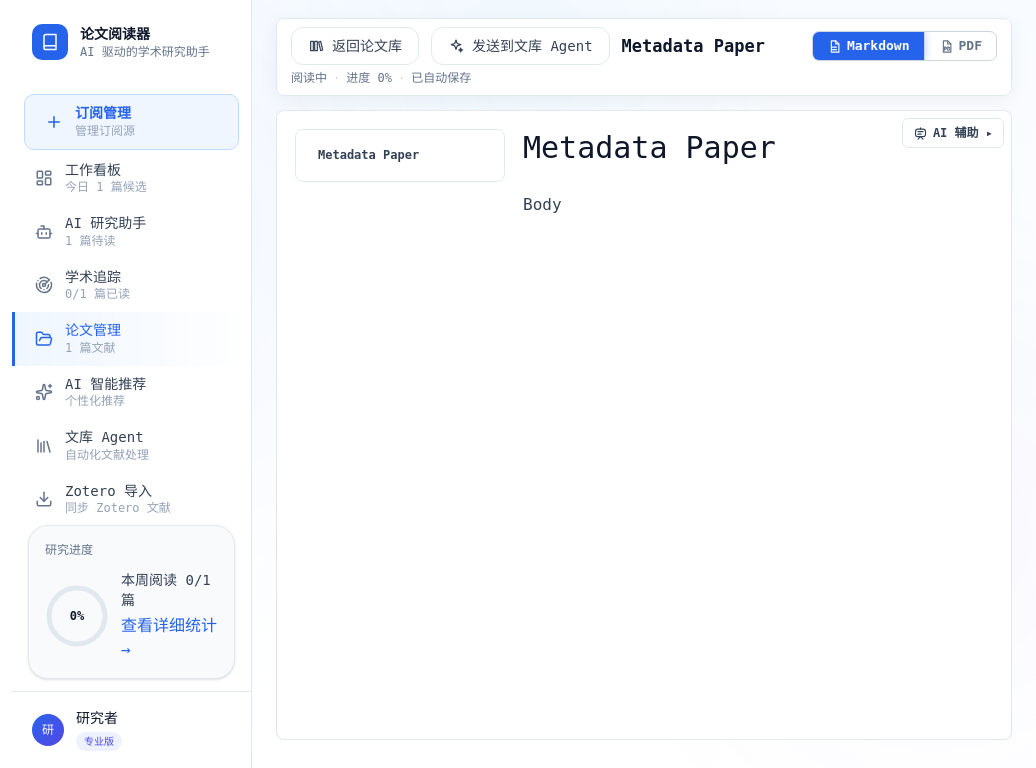
Scenario: reader route back button returns to library detail route
Click the button "返回论文库" at point(355, 46), box x1=291 y1=27 x2=419 y2=65
(page scrolled)
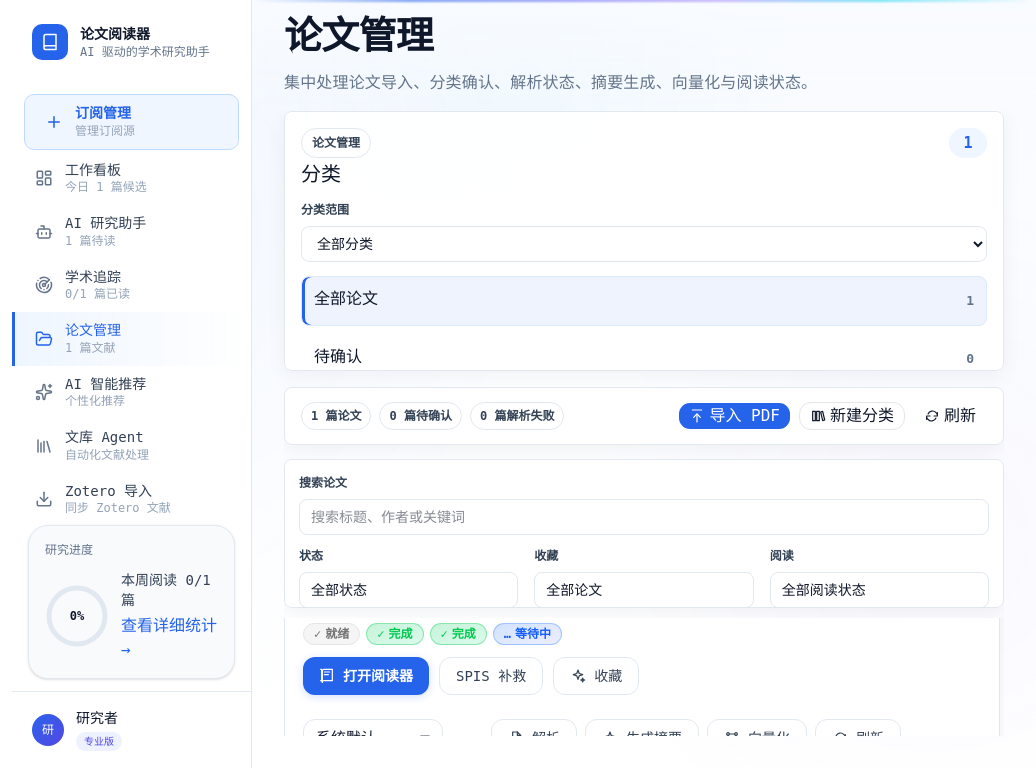
Expected: the heading "论文管理" is shown, x1=284 y1=8 x2=433 y2=65
Expected: the button "打开阅读器" is shown, x1=303 y1=657 x2=429 y2=695
